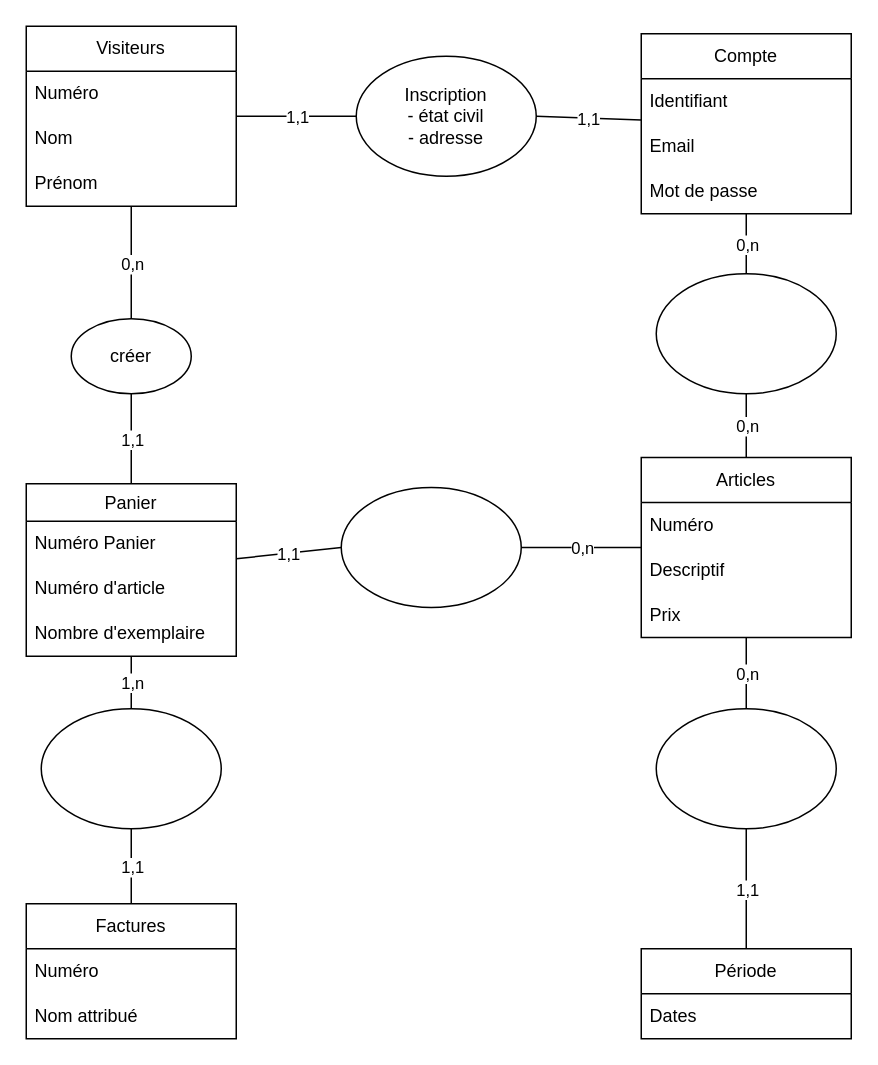
Image size: 878x1065. Some labels were removed from this diagram. The centre of each missing label's shape, as x and y in pixels:
"Accède" goes at point (745, 333).
"Achat validé" goes at point (130, 768).
"Peut être mis" goes at point (430, 547).
"Prix varie" goes at point (745, 768).
